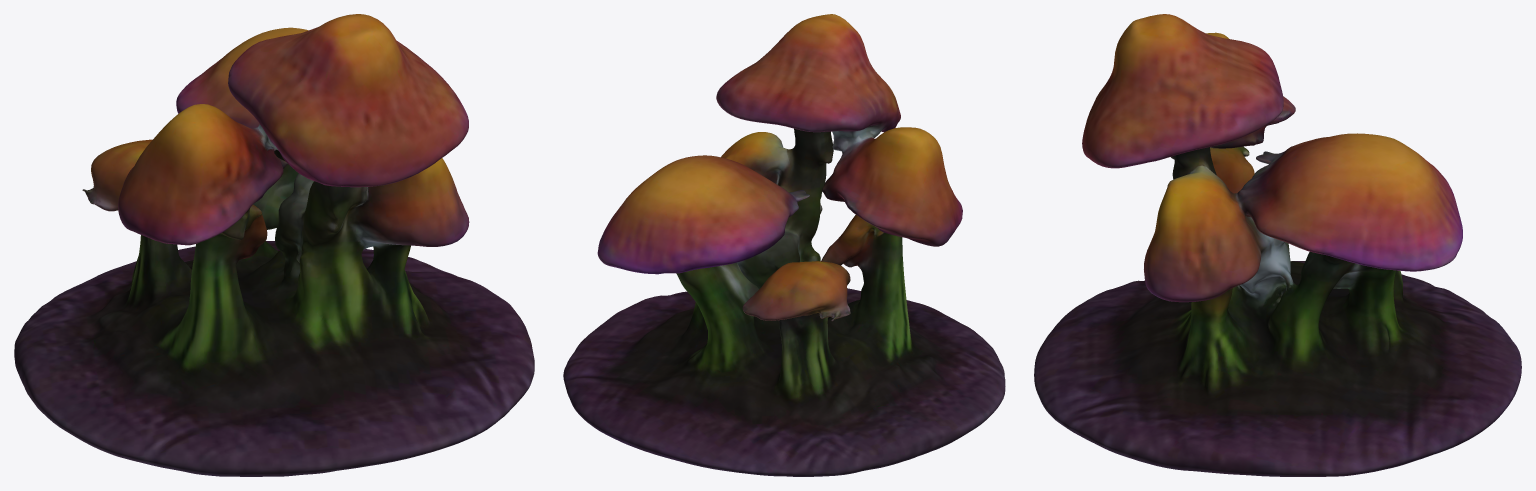
Rendered from fea5b824363a_alien_glowy_psyched.fbx.
3 renders of one model, left to right at view 1: azimuth 30°, elevation 25°; view 2: azimuth 150°, elevation 25°; view 3: azimuth 270°, elevation 25°, orthographic. The views are drawn at different scales.
Visible parts, largest first — view 1: high_poly; view 2: high_poly; view 3: high_poly.
Part boxes in pixels (x1=…): high_poly: x1=14, y1=14, x2=534, y2=476; high_poly: x1=563, y1=14, x2=1005, y2=476; high_poly: x1=1034, y1=14, x2=1521, y2=476.
Bounding box in the file's own units: 100 × 83.58 × 99.1.
